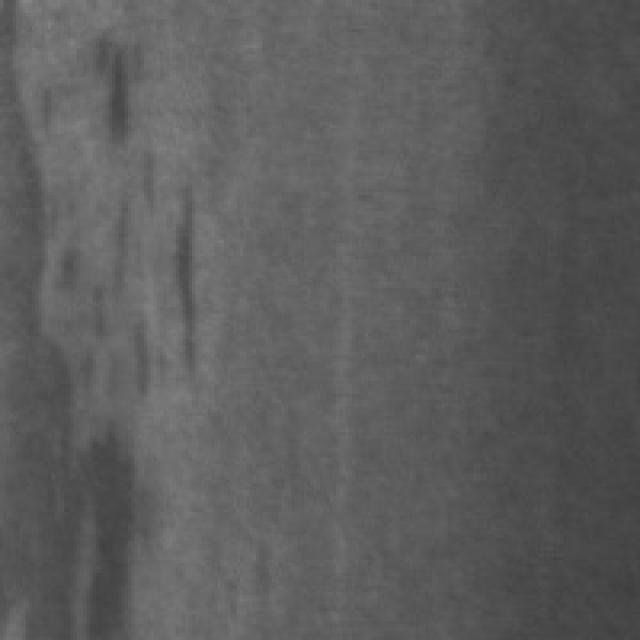inclusion: (0, 0, 138, 634), (80, 173, 202, 387), (29, 26, 125, 147)
